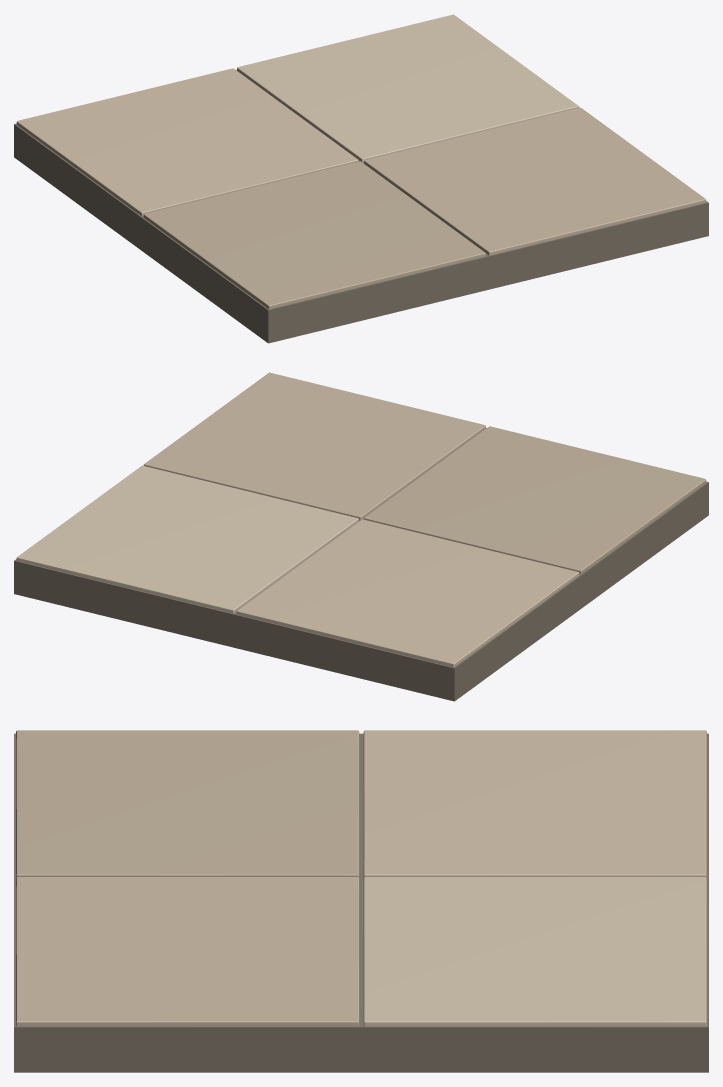
File: floor_tile.fbx
3 renders of one model, top to bottom at view 1: azimuth 30°, elevation 25°; view 2: azimuth 150°, elevation 25°; view 3: azimuth 270°, elevation 25°, orthographic. The views are drawn at different scales.
Visible parts, largest first — view 1: floor_tile; view 2: floor_tile; view 3: floor_tile.
Boxes of the visible parts, left/top/right/bottom form: floor_tile: left=14, top=14, right=708, bottom=343; floor_tile: left=14, top=372, right=708, bottom=701; floor_tile: left=14, top=730, right=708, bottom=1072.
Size of the model in its own units: 1 by 0.08 by 1.
